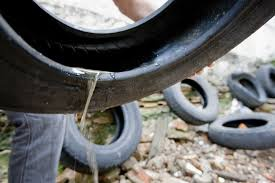tire: (1, 1, 271, 114), (52, 80, 142, 175), (161, 73, 221, 125), (209, 112, 275, 150), (226, 70, 266, 108), (255, 65, 275, 98)
